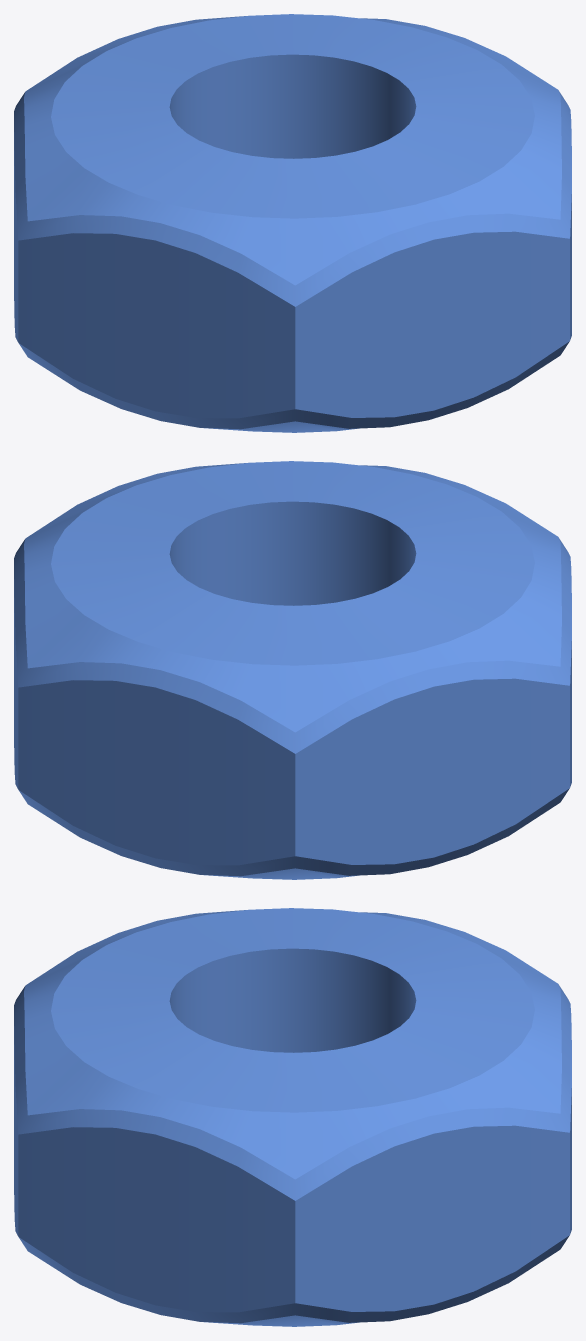
The model's file is Nut 3.fbx.
3 renders of one model, top to bottom at view 1: azimuth 30°, elevation 25°; view 2: azimuth 150°, elevation 25°; view 3: azimuth 270°, elevation 25°, orthographic.
Visible parts, largest first — view 1: Nut 1.119; view 2: Nut 1.119; view 3: Nut 1.119.
Part boxes in pixels (<box>): Nut 1.119: <box>14,14,571,432</box>; Nut 1.119: <box>14,461,571,879</box>; Nut 1.119: <box>14,908,571,1326</box>.
Size of the model in its own units: 1.87 by 0.7545 by 1.63.
